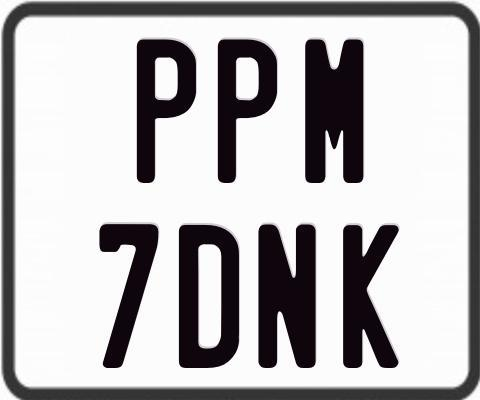7: (97, 221, 160, 365)
D: (176, 222, 240, 368)
K: (343, 223, 402, 368)
M: (303, 36, 367, 180)
N: (258, 221, 320, 371)
P: (217, 38, 277, 188), (135, 37, 195, 181)
